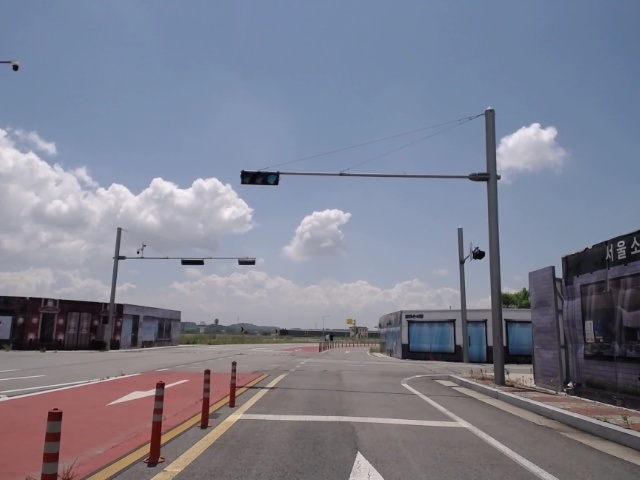green_3: (243, 171, 279, 185)
